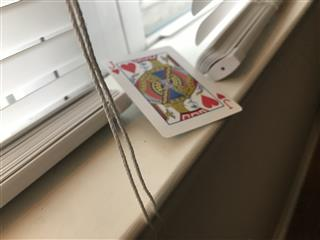JackOfHearts: (103, 45, 242, 137)
